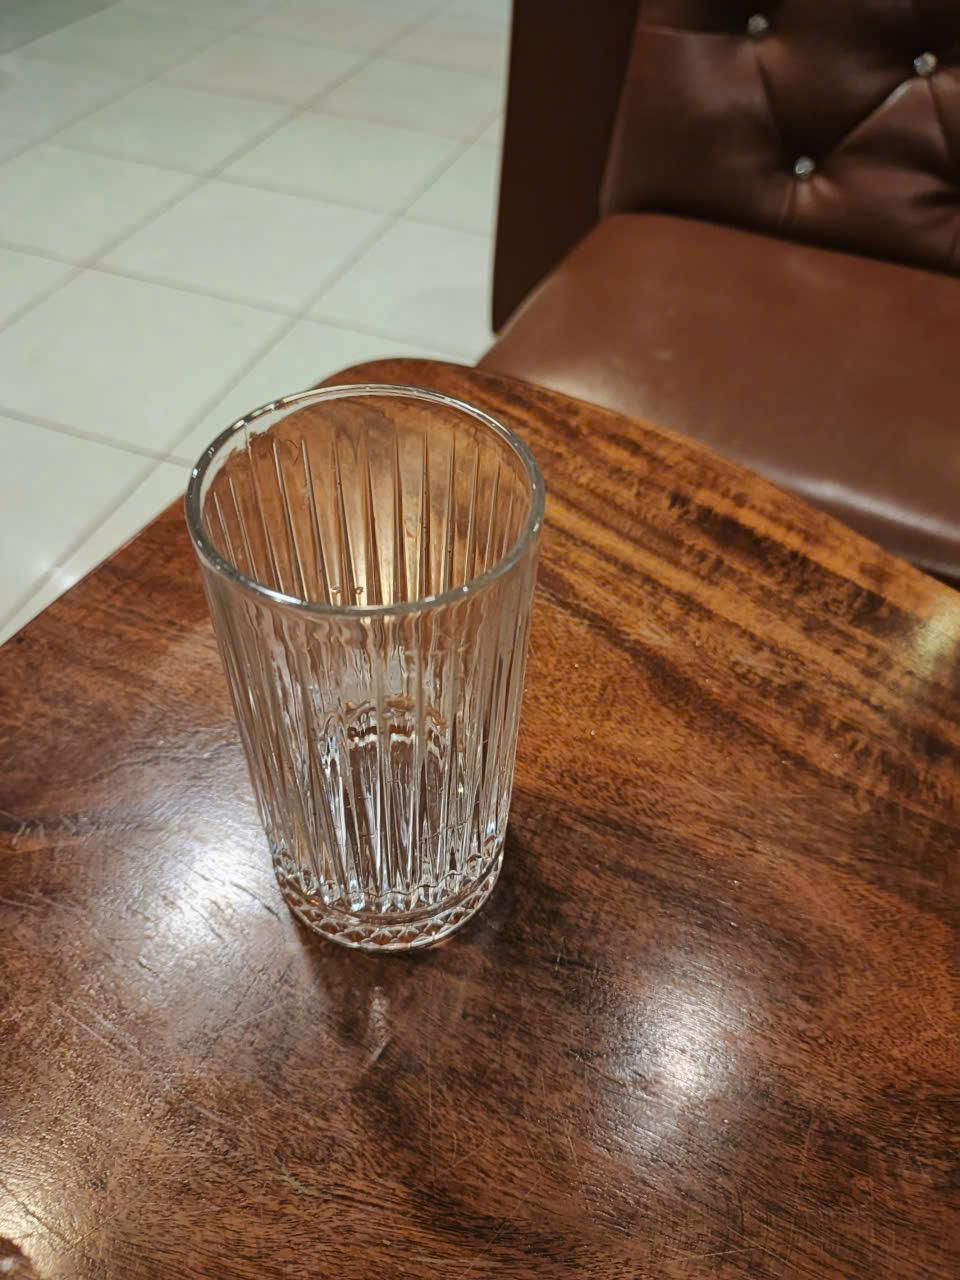Vo co: (188, 385, 530, 956)
